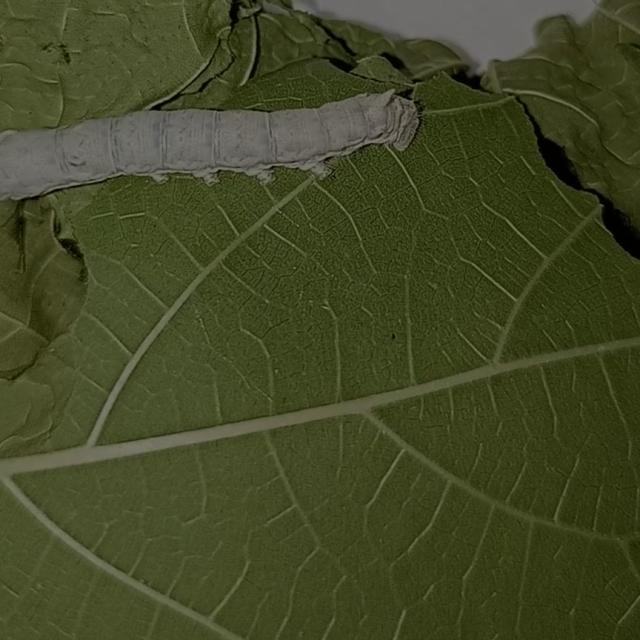Healthy: (0, 52, 438, 252)
